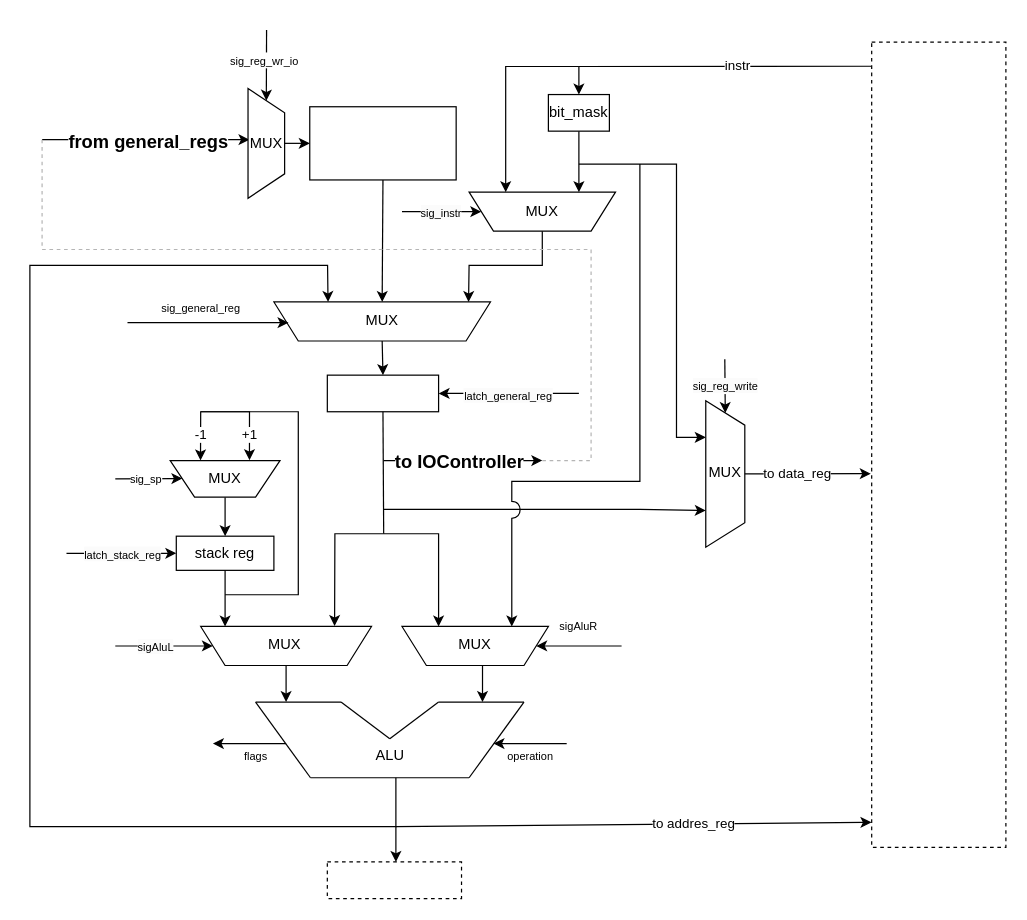
The diagram is 1027 pixels wide and 920 high, and some of its shapes have lost their labels. The shapes that lost their labels are listed below. From the top down, each one's box as (x1, y1, x2, y2) in pixels, then its label:
(309, 106, 456, 180): IOController
(326, 374, 439, 412): general regs
(870, 41, 1006, 847): Middlewate
(326, 861, 462, 899): Control Unit
